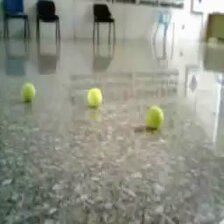tennis: (145, 104, 163, 128), (86, 88, 103, 106), (21, 82, 35, 99)
